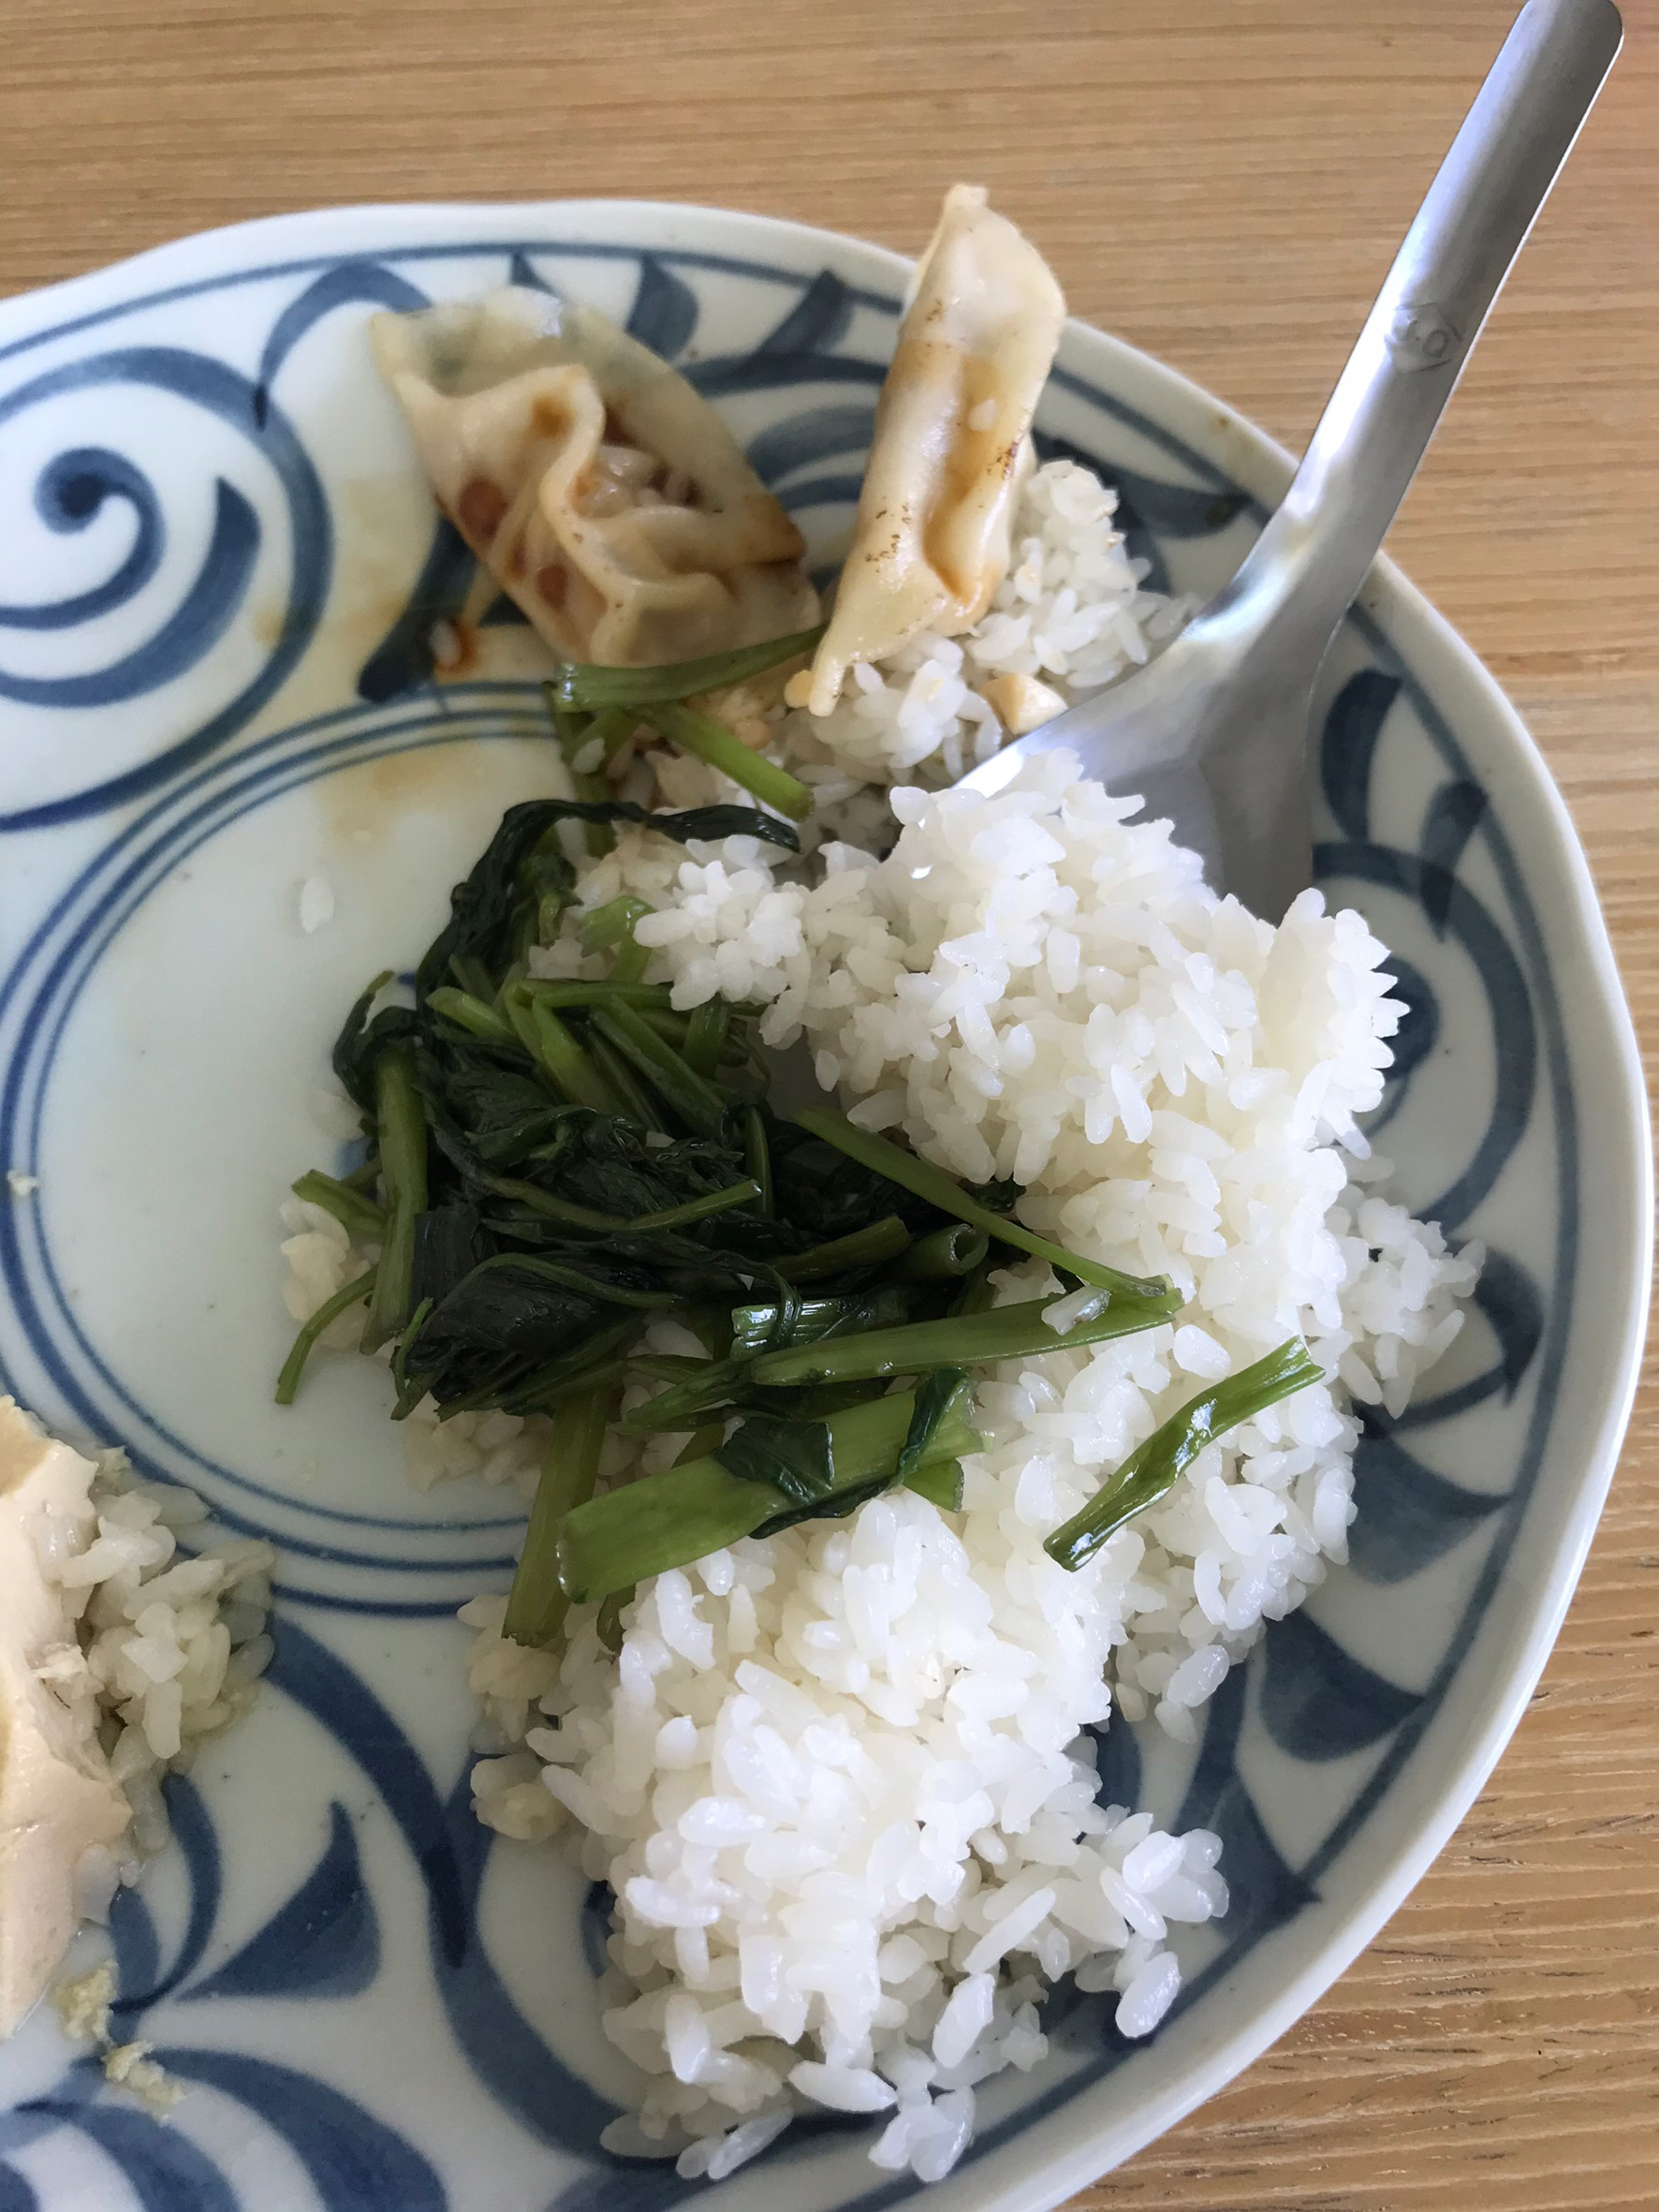fried_dumplings: (399, 218, 1066, 690)
rice: (657, 903, 1363, 1872)
water_spinach: (366, 1039, 819, 1333)
